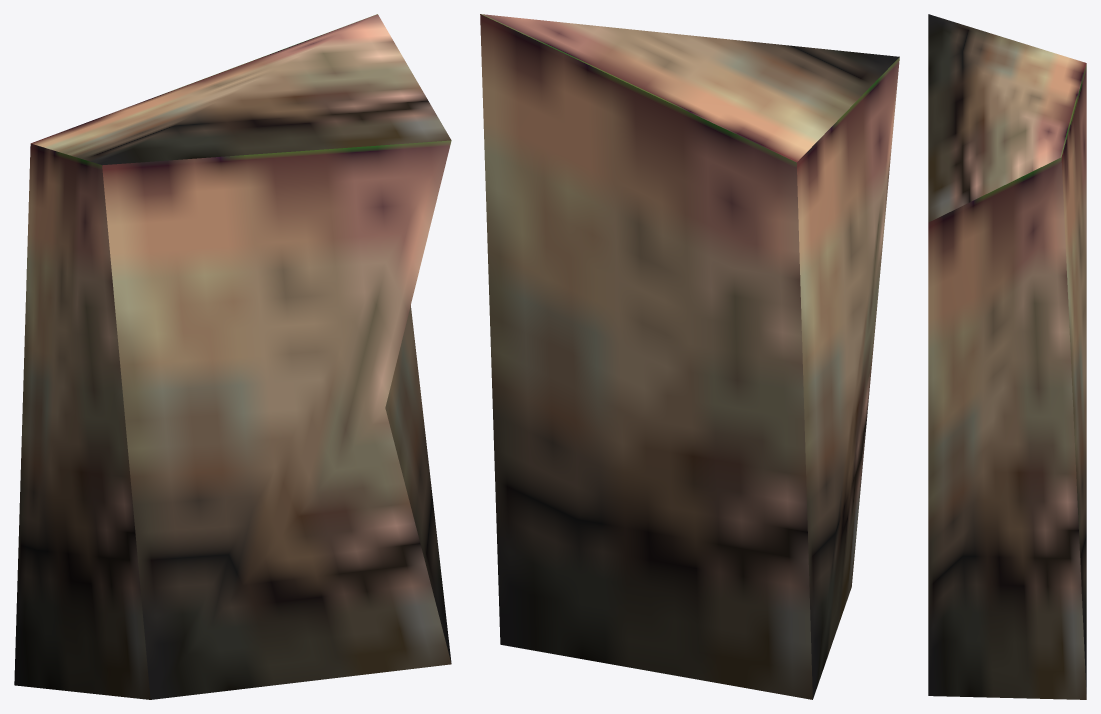
Rendered from USA - Base Infrastructure - Power Plant - Damage State 13 - ABPWRPLANT_d13.glb.
The picture shows the model from 3 angles, left to right: view 1: azimuth 30°, elevation 25°; view 2: azimuth 150°, elevation 25°; view 3: azimuth 270°, elevation 25°; orthographic projection. The views are drawn at different scales.
Parts seen in each view (by area): view 1: ABPWRPLANT_D13; view 2: ABPWRPLANT_D13; view 3: ABPWRPLANT_D13.
Part boxes in pixels (x1,y1,x2,y2): ABPWRPLANT_D13: (14, 14, 451, 699); ABPWRPLANT_D13: (480, 14, 899, 699); ABPWRPLANT_D13: (928, 14, 1086, 699).
Size of the model in its own units: 3.17 by 5.36 by 1.38.
1 material, 1 textured.
